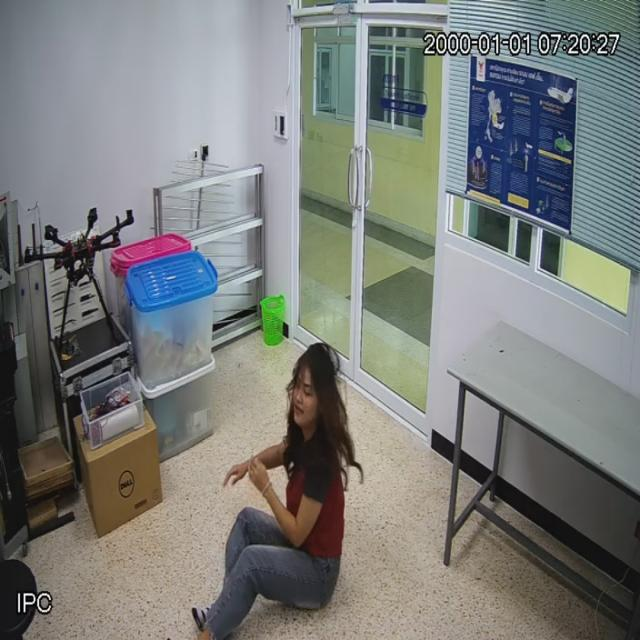fall: (206, 341, 344, 640)
